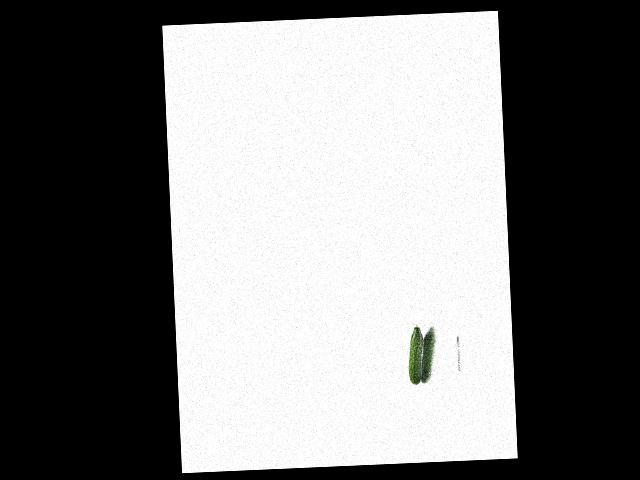cucumber: (406, 324, 425, 384)
